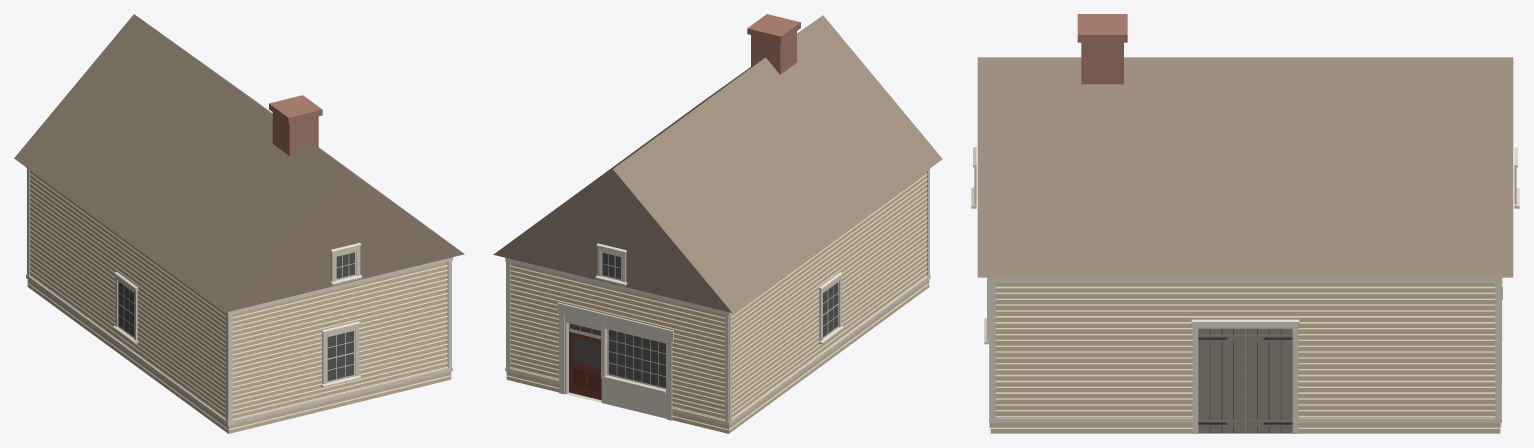
Rendered from recon_1835_gifford_c2_001__inferred_1835.glb.
The picture shows the model from 3 angles, left to right: view 1: azimuth 30°, elevation 25°; view 2: azimuth 150°, elevation 25°; view 3: azimuth 270°, elevation 25°; orthographic projection. The views are drawn at different scales.
Parts seen in each view (by area): view 1: recon_1835_gifford_c2_001__inferred_1835; view 2: recon_1835_gifford_c2_001__inferred_1835; view 3: recon_1835_gifford_c2_001__inferred_1835.
Part boxes in pixels (x1,y1,x2,y2): recon_1835_gifford_c2_001__inferred_1835: (14, 14, 464, 433); recon_1835_gifford_c2_001__inferred_1835: (493, 14, 942, 433); recon_1835_gifford_c2_001__inferred_1835: (971, 14, 1519, 433).
Size of the model in its own units: 6.9 by 7.36 by 10.75.
